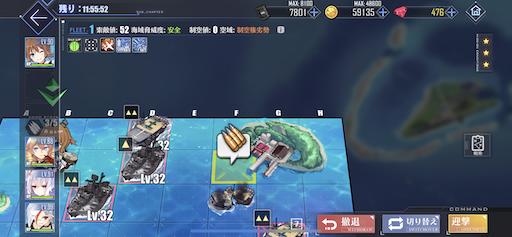lv1: (119, 138, 167, 184)
lv2: (64, 170, 113, 219), (124, 103, 166, 139)
